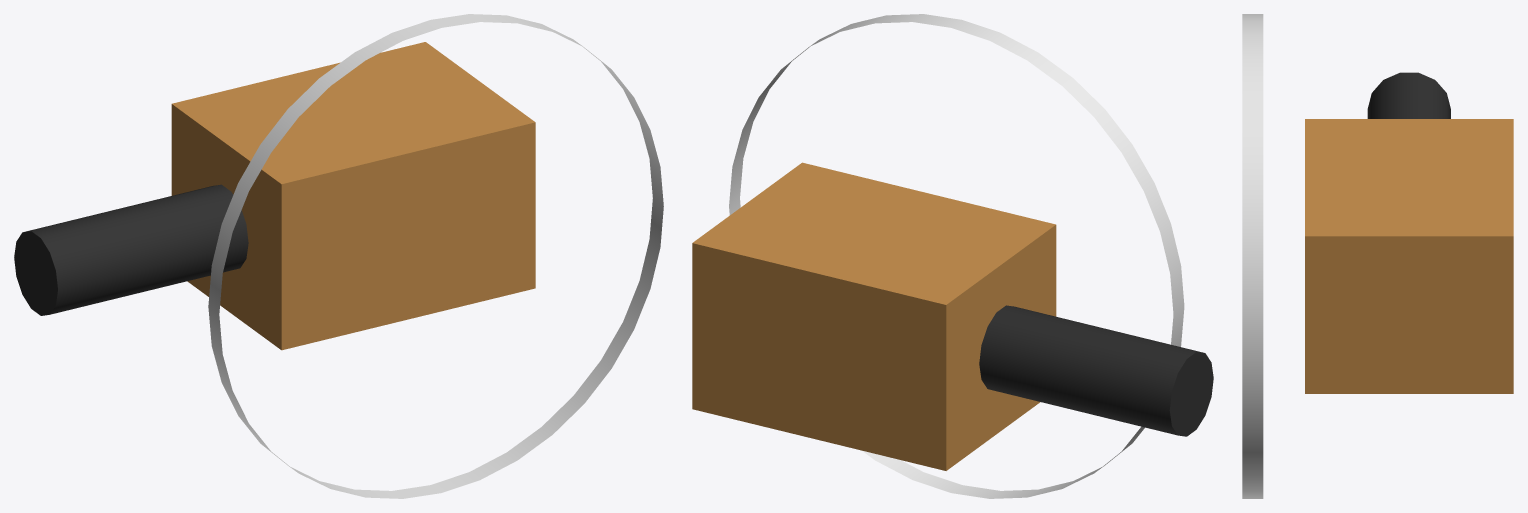
Rendered from newhorizons.glb.
3 renders of one model, left to right at view 1: azimuth 30°, elevation 25°; view 2: azimuth 150°, elevation 25°; view 3: azimuth 270°, elevation 25°, orthographic. The views are drawn at different scales.
Parts seen in each view (by area): view 1: newhorizons; view 2: newhorizons; view 3: newhorizons.
Boxes of the visible parts, x1,y1,x2,y2 form: newhorizons: (14,14,663,498); newhorizons: (692,14,1213,498); newhorizons: (1242,14,1513,498).
Bounding box in the file's own units: 1.7 × 1.4 × 0.78.
